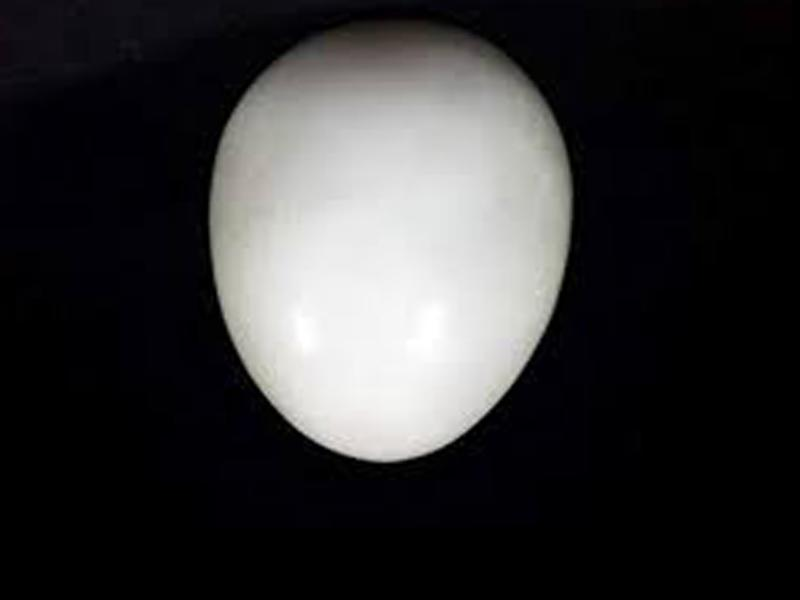Eggs: (209, 11, 570, 461)
